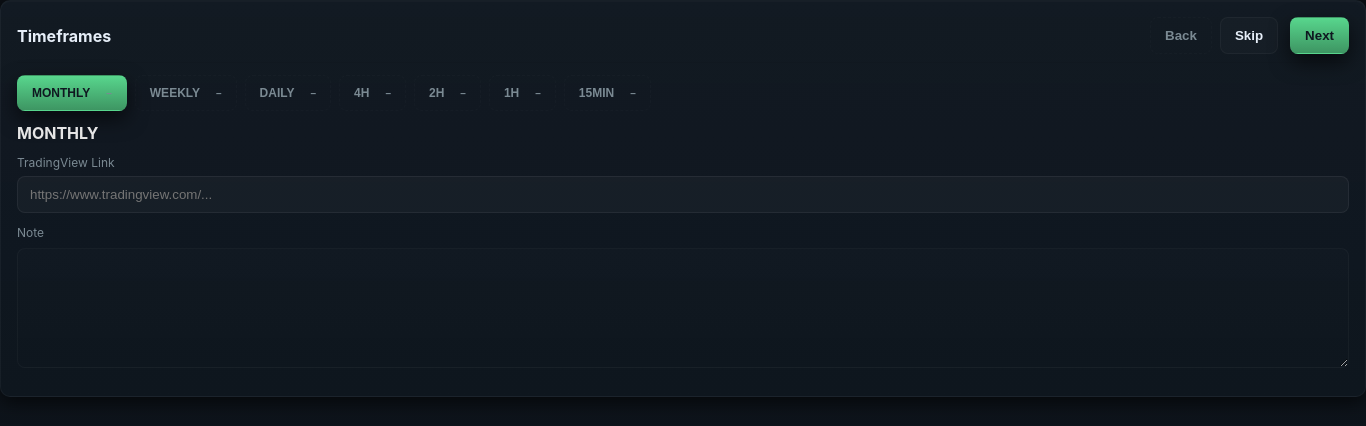
Test: TimeframeWizard › skip advances to next and leaves fields empty
Click the button "Skip".
click(1249, 36)  # box [1220,17,1278,54]
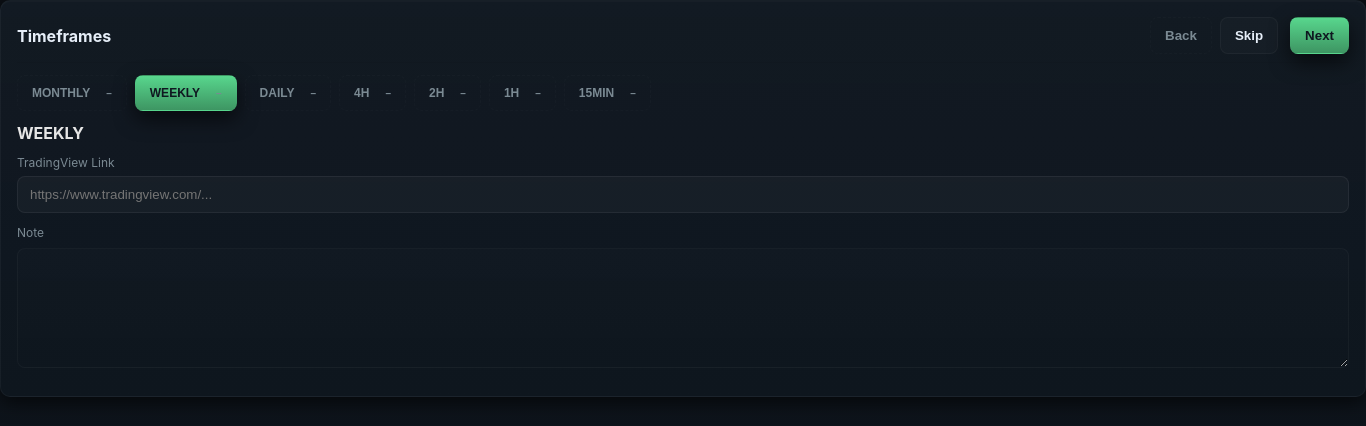
Check: the heading "WEEKLY" is shown, box [17,123,84,143]
